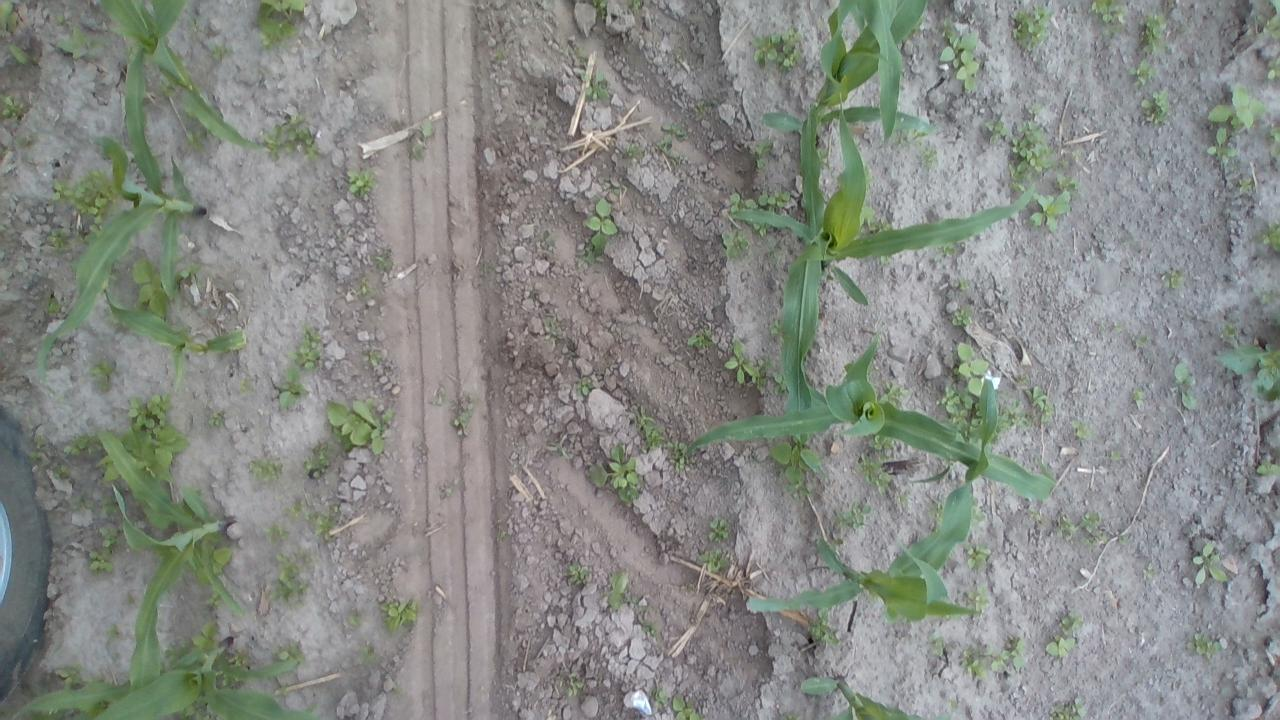Maize: (729, 92, 1038, 306), (681, 327, 1055, 500), (746, 376, 1000, 622), (36, 47, 209, 371), (93, 426, 244, 690), (98, 0, 272, 153), (12, 637, 324, 720), (760, 0, 930, 142), (106, 288, 246, 390), (826, 0, 902, 140), (800, 671, 924, 720)
Weeds: (322, 398, 384, 457), (1216, 333, 1280, 390), (587, 443, 644, 506), (934, 638, 1028, 676), (49, 169, 112, 224), (854, 439, 907, 503), (251, 0, 310, 49), (770, 439, 824, 492), (128, 428, 186, 474), (263, 115, 322, 160), (752, 26, 811, 70), (1209, 86, 1266, 131), (582, 195, 620, 262), (942, 25, 979, 89), (1004, 125, 1052, 174), (130, 260, 168, 319), (58, 20, 107, 64), (1008, 3, 1051, 51), (725, 333, 762, 387), (1055, 507, 1108, 544), (627, 402, 666, 452), (123, 393, 172, 430), (952, 342, 986, 395), (1030, 188, 1070, 233), (272, 369, 310, 412), (376, 598, 421, 634), (1, 3, 28, 63), (833, 498, 872, 536), (1192, 544, 1230, 583), (247, 444, 284, 484), (939, 388, 975, 429), (722, 188, 788, 210), (274, 554, 307, 598), (808, 610, 839, 650), (1140, 85, 1172, 122), (1172, 364, 1198, 407), (298, 326, 326, 365), (454, 392, 479, 435), (190, 623, 220, 657), (1140, 12, 1165, 51), (61, 433, 98, 459), (91, 359, 119, 393), (344, 167, 374, 198), (1205, 130, 1237, 159), (308, 507, 336, 540), (1086, 0, 1124, 24), (664, 437, 690, 472), (749, 134, 774, 170), (304, 442, 332, 474), (580, 74, 610, 103), (699, 548, 730, 576), (1254, 217, 1280, 250), (998, 402, 1024, 435), (1054, 696, 1089, 720), (1, 94, 33, 120), (607, 564, 625, 610), (85, 546, 114, 574), (1043, 636, 1078, 659), (967, 579, 994, 608), (568, 560, 592, 589), (964, 543, 994, 566), (672, 694, 698, 720), (1263, 0, 1280, 39), (981, 112, 1001, 145), (273, 638, 304, 658), (1194, 632, 1218, 657), (883, 380, 910, 402), (1051, 172, 1080, 192), (686, 330, 708, 356), (722, 231, 744, 257), (42, 229, 72, 248), (186, 122, 206, 150), (223, 650, 250, 670), (287, 494, 306, 522), (378, 249, 400, 273), (658, 139, 682, 161), (1061, 611, 1086, 632), (771, 370, 790, 397), (952, 308, 975, 330), (175, 258, 198, 280), (564, 675, 586, 698), (187, 16, 205, 44), (1258, 286, 1280, 308), (41, 292, 63, 314), (1023, 99, 1046, 120), (659, 122, 689, 138), (16, 130, 40, 150), (356, 278, 376, 302), (1134, 60, 1152, 86), (1028, 388, 1048, 411), (265, 523, 289, 542), (711, 517, 731, 539), (1256, 456, 1278, 476), (637, 611, 657, 632), (55, 666, 81, 682), (30, 436, 48, 459), (692, 95, 716, 112), (972, 504, 988, 529), (928, 497, 942, 525), (920, 144, 938, 164), (540, 322, 560, 340), (1132, 389, 1148, 410), (626, 142, 644, 160), (346, 609, 364, 627), (361, 638, 379, 656), (238, 377, 256, 395), (1070, 420, 1090, 436), (1235, 177, 1251, 197), (1270, 122, 1280, 154), (574, 378, 594, 394), (1166, 268, 1180, 290), (933, 246, 950, 264), (860, 207, 876, 226), (378, 410, 394, 428), (160, 78, 178, 94), (106, 626, 124, 642), (210, 43, 228, 59), (779, 708, 802, 720), (1114, 530, 1131, 546), (208, 414, 225, 430), (100, 499, 118, 514), (420, 119, 434, 138), (1268, 54, 1280, 76), (362, 345, 378, 361), (103, 534, 119, 549), (652, 688, 664, 707), (1222, 322, 1240, 334), (495, 46, 509, 60), (1110, 448, 1124, 462), (1135, 334, 1147, 350), (1142, 563, 1154, 579), (58, 464, 69, 480), (949, 698, 960, 712), (1026, 509, 1042, 518), (958, 277, 968, 290), (770, 322, 780, 334), (595, 0, 608, 8), (630, 0, 641, 7)
